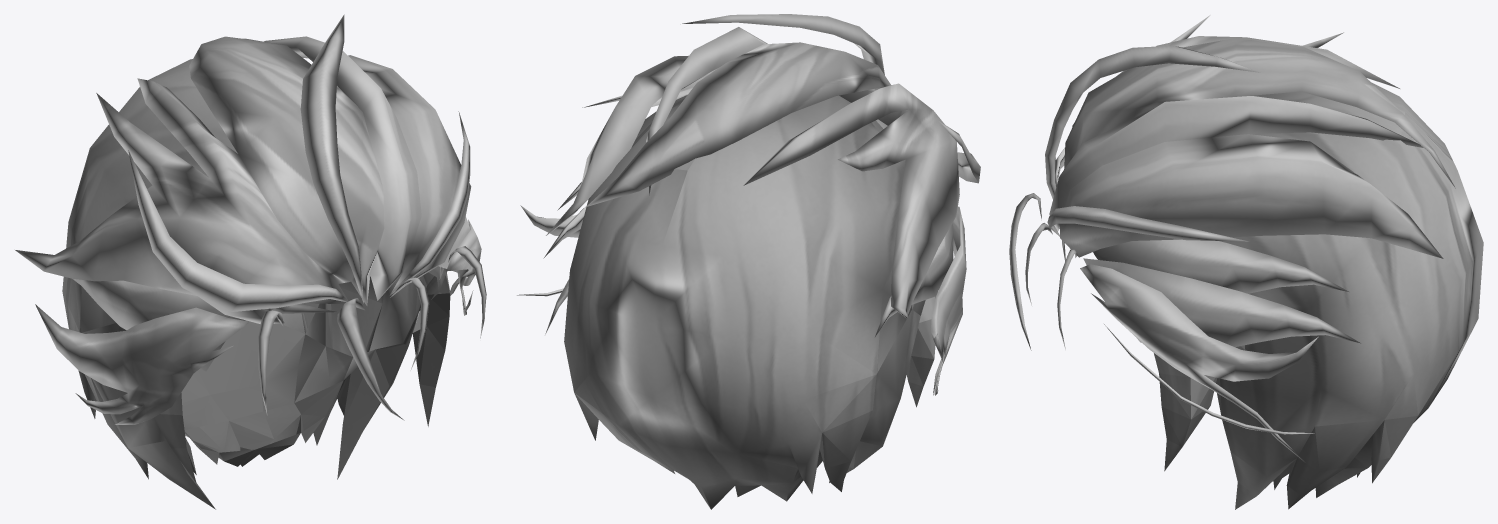
File: zhanshi_toufa.FBX
3 renders of one model, left to right at view 1: azimuth 30°, elevation 25°; view 2: azimuth 150°, elevation 25°; view 3: azimuth 270°, elevation 25°, orthographic. The views are drawn at different scales.
Visible parts, largest first — view 1: zhanshi_toufa; view 2: zhanshi_toufa; view 3: zhanshi_toufa.
Boxes of the visible parts, x1,y1,x2,y2 form: zhanshi_toufa: [15, 14, 486, 509]; zhanshi_toufa: [517, 14, 980, 509]; zhanshi_toufa: [1009, 15, 1483, 509].
Size of the model in its own units: 39.72 by 39.89 by 38.29.
